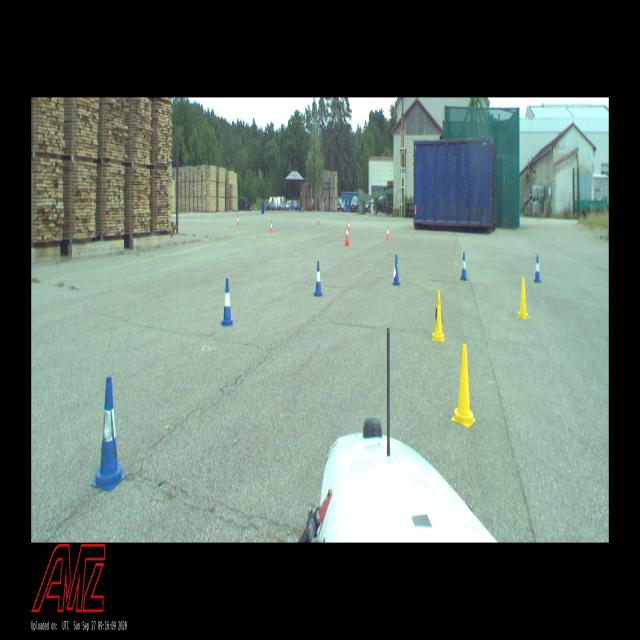blue_cone: (90, 376, 127, 492), (220, 278, 234, 327), (314, 260, 323, 296), (534, 255, 542, 283), (393, 254, 400, 286), (460, 252, 467, 281)
orange_cone: (386, 225, 390, 241), (345, 225, 349, 241), (270, 220, 273, 233), (348, 220, 351, 232), (237, 215, 240, 226), (317, 216, 320, 224), (365, 213, 367, 221), (347, 211, 349, 218)
yellow_cone: (451, 343, 476, 428), (432, 290, 444, 342), (516, 276, 530, 320)
